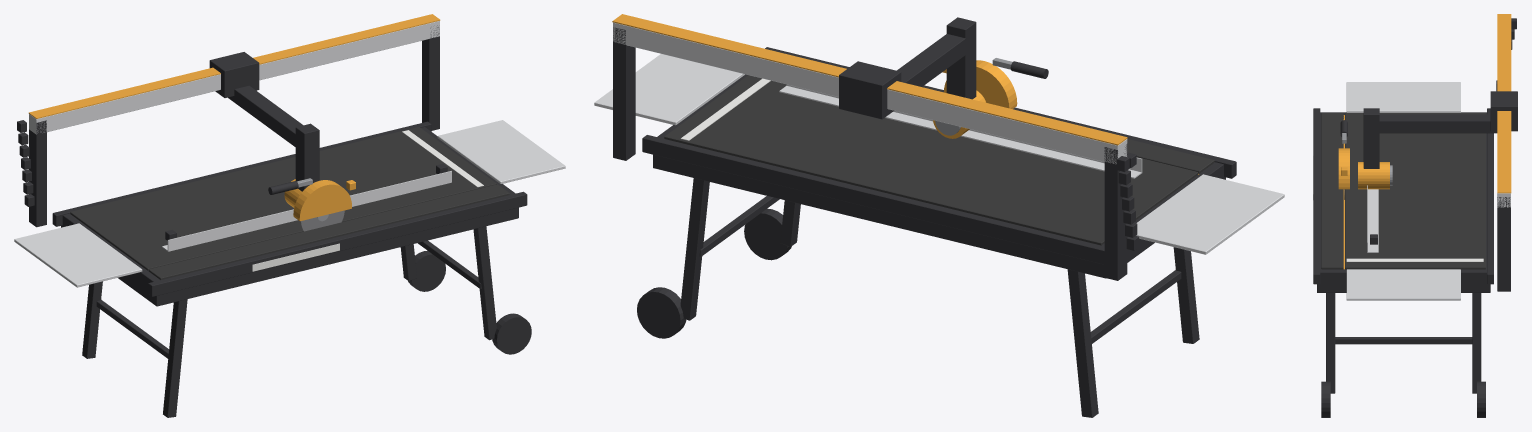
File: tile_saw_shijing.glb
The picture shows the model from 3 angles, left to right: view 1: azimuth 30°, elevation 25°; view 2: azimuth 150°, elevation 25°; view 3: azimuth 270°, elevation 25°; orthographic projection. The views are drawn at different scales.
Parts seen in each view (by area): view 1: Table_Back, Rail_Alu_1850, Body_Tray, Body_Rail_F, Table_Front, Side_Table_-1, Side_Table_1, Rail_Cap, Fence_Angle_V, Head_Arm, Guard, Column_-1 (+13 smaller); view 2: Table_Back, Rail_Alu_1850, Body_Rail_B, Body_Tray, Side_Table_-1, Rail_Cap, Side_Table_1, Column_1, Carriage, Leg_-1_-1, Column_-1, Leg_1_-1 (+13 smaller); view 3: Table_Back, Side_Table_1, Side_Table_-1, Table_Front, Rail_Cap, Head_Arm, Body_Tray, Body_Rail_F, Column_1, Leg_Brace_1, Body_Rail_B, Leg_1_1 (+10 smaller).
Boxes of the visible parts, x1,y1,x2,y2 form: Table_Back: (70, 127, 496, 270); Rail_Alu_1850: (29, 21, 439, 134); Body_Tray: (61, 127, 518, 306); Body_Rail_F: (148, 191, 527, 296); Table_Front: (148, 184, 509, 279); Side_Table_-1: (14, 223, 142, 287); Side_Table_1: (437, 120, 565, 183); Rail_Cap: (28, 14, 440, 118); Fence_Angle_V: (167, 171, 451, 250); Head_Arm: (228, 85, 303, 151); Guard: (293, 180, 351, 221); Column_-1: (29, 120, 46, 227); Table_Back: (664, 75, 1198, 245); Rail_Alu_1850: (613, 22, 1127, 164); Body_Rail_B: (642, 135, 1104, 264); Body_Tray: (653, 74, 1225, 278); Side_Table_-1: (1136, 174, 1284, 254); Rail_Cap: (612, 14, 1127, 145); Side_Table_1: (594, 54, 744, 125); Column_1: (613, 27, 635, 160); Carriage: (839, 61, 901, 119); Leg_-1_-1: (1067, 269, 1098, 417); Column_-1: (1104, 144, 1127, 280); Leg_1_-1: (680, 178, 709, 320); Table_Back: (1345, 113, 1485, 269); Side_Table_1: (1346, 269, 1460, 300); Side_Table_-1: (1346, 82, 1460, 112); Table_Front: (1321, 113, 1343, 269); Rail_Cap: (1497, 14, 1511, 193); Head_Arm: (1367, 114, 1497, 133); Body_Tray: (1317, 112, 1490, 292); Body_Rail_F: (1313, 108, 1320, 284); Column_1: (1497, 197, 1510, 291); Leg_Brace_1: (1335, 337, 1472, 344); Body_Rail_B: (1487, 108, 1493, 284); Leg_1_1: (1326, 293, 1335, 393).
Size of the model in its own units: 2.24 by 1.15 by 0.897.
